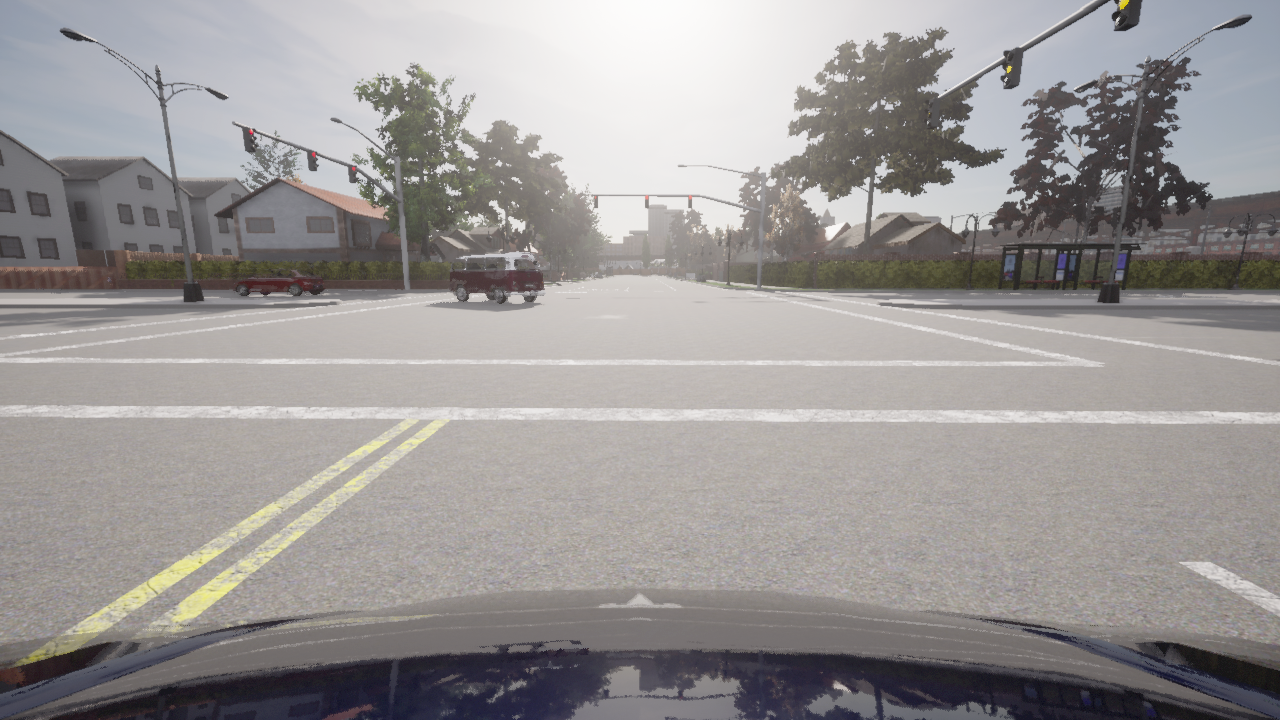cyclist: (0, 588, 1279, 719), (448, 252, 544, 303), (231, 268, 323, 296)
pedestrian: (106, 274, 113, 288)
